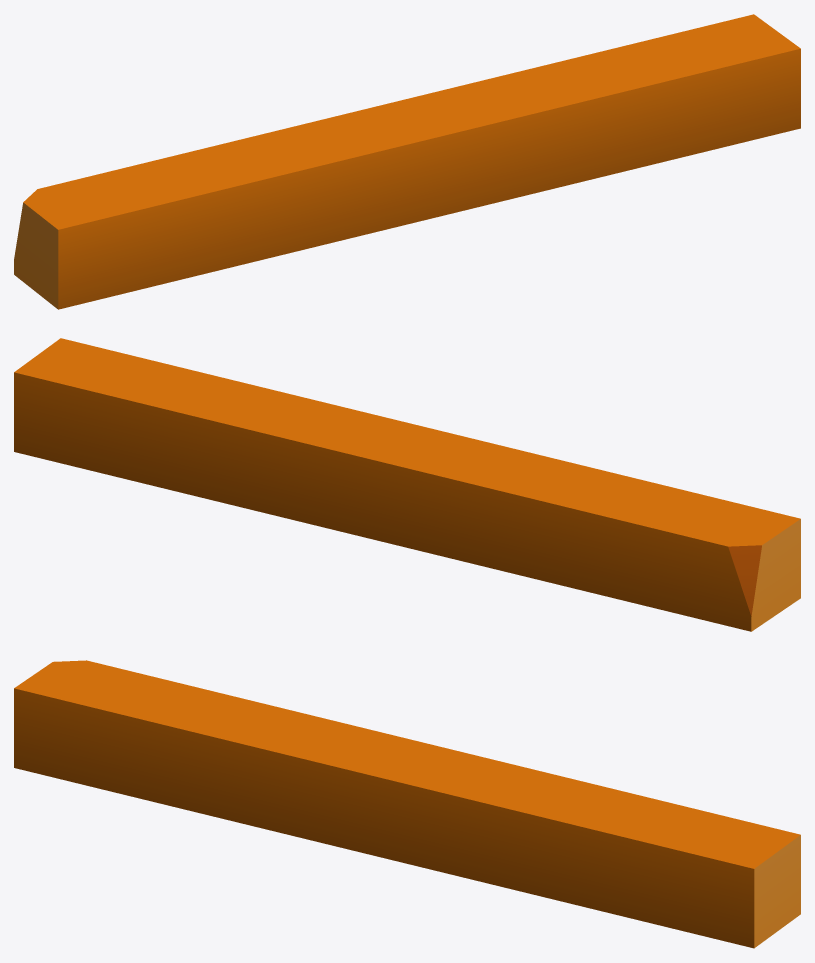
Rendered from Plank_01.glb.
3 renders of one model, top to bottom at view 1: azimuth 30°, elevation 25°; view 2: azimuth 150°, elevation 25°; view 3: azimuth 330°, elevation 25°, orthographic.
Parts seen in each view (by area): view 1: Plank_01; view 2: Plank_01; view 3: Plank_01.
Boxes of the visible parts, left/top/right/bottom form: Plank_01: left=14, top=14, right=800, bottom=309; Plank_01: left=14, top=338, right=800, bottom=631; Plank_01: left=14, top=660, right=800, bottom=948.
Bounding box in the file's own units: 1.57 × 0.1617 × 0.1724.
1 material, 1 textured.
